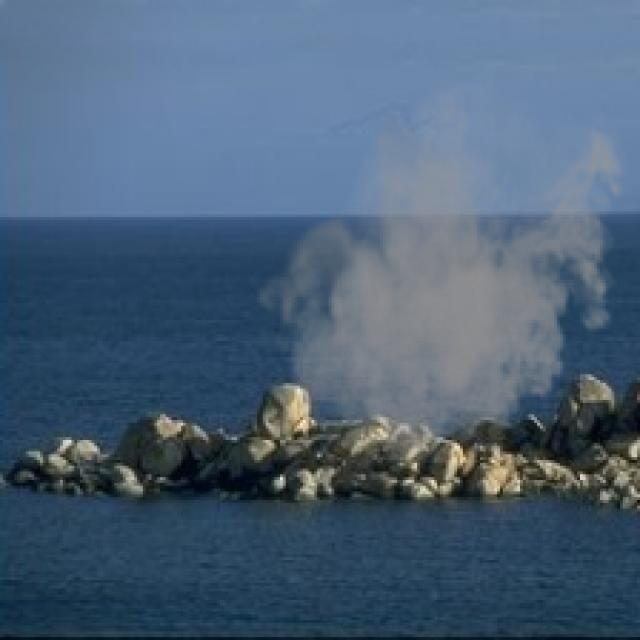Smoke: (255, 60, 634, 486)
